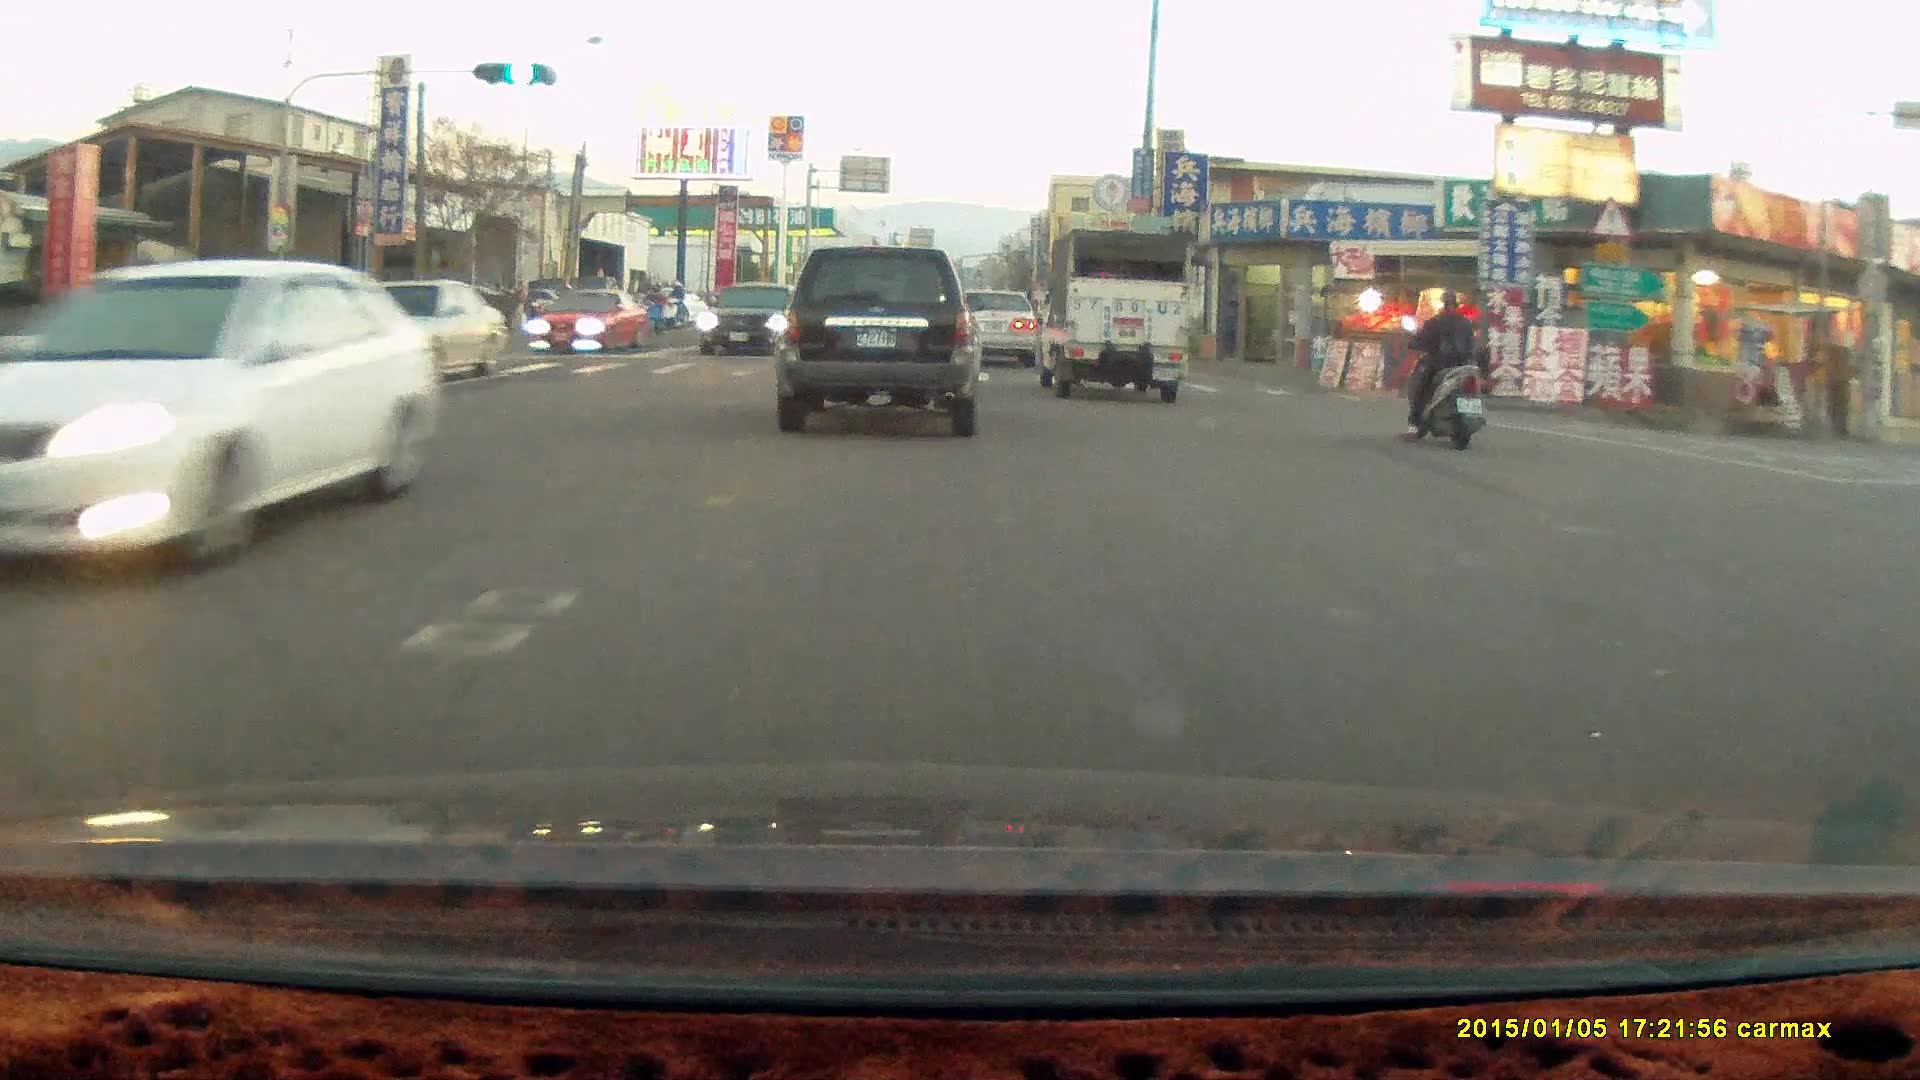rider: (1397, 283, 1485, 444), (636, 282, 670, 331), (656, 279, 688, 330)
vehicle: (1, 258, 442, 579), (772, 244, 987, 436), (1029, 227, 1188, 402), (276, 283, 498, 403), (697, 281, 816, 357), (140, 279, 297, 334), (540, 285, 647, 356), (945, 286, 1037, 368), (952, 290, 1041, 371)
